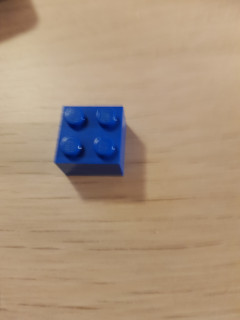2x2 blue: (51, 104, 130, 179)
